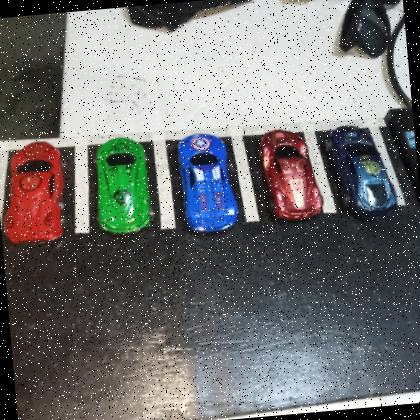Car: (0, 137, 71, 249), (324, 119, 400, 223), (172, 128, 241, 236), (253, 124, 327, 224), (89, 134, 156, 238)
